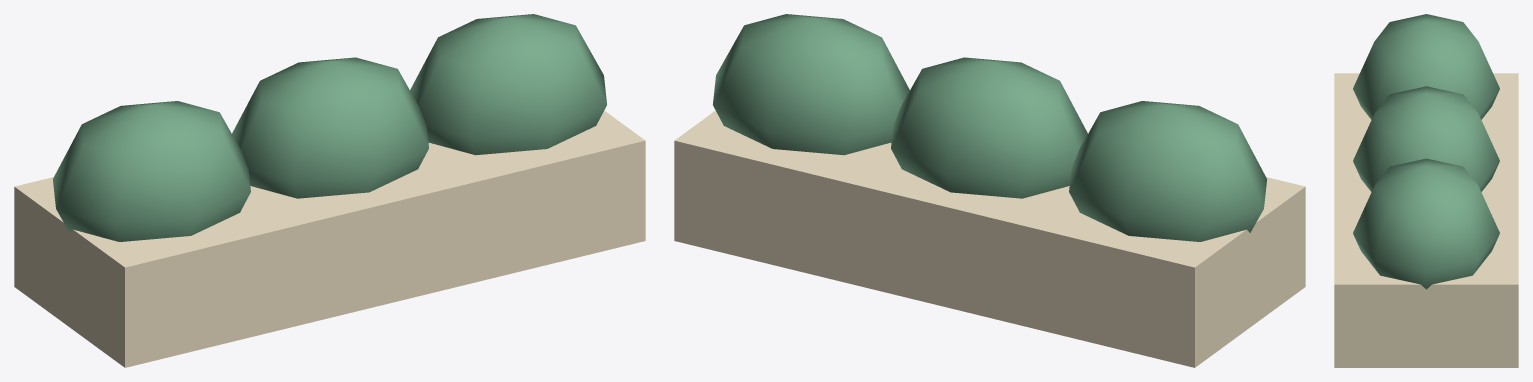
Rendered from hedge-planter.glb.
3 views of the same model, side by side, from view 1: azimuth 30°, elevation 25°; view 2: azimuth 150°, elevation 25°; view 3: azimuth 270°, elevation 25° (orthographic). The views are drawn at different scales.
Visible parts, largest first — view 1: hedge-planter; view 2: hedge-planter; view 3: hedge-planter.
Boxes of the visible parts, x1,y1,x2,y2 form: hedge-planter: (14,14,645,367); hedge-planter: (674,14,1305,367); hedge-planter: (1334,14,1518,367).
Size of the model in its own units: 4 by 1.41 by 1.4.
